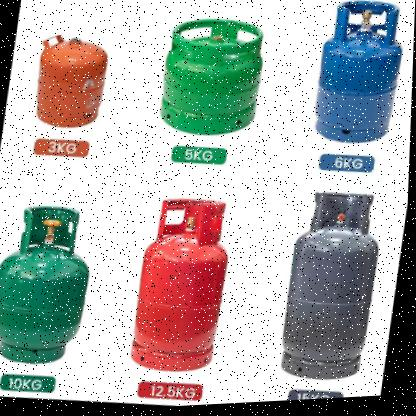gas-tank: (266, 181, 402, 398), (123, 187, 246, 386), (0, 192, 115, 380), (139, 8, 279, 153), (295, 0, 415, 161), (19, 25, 124, 141)
